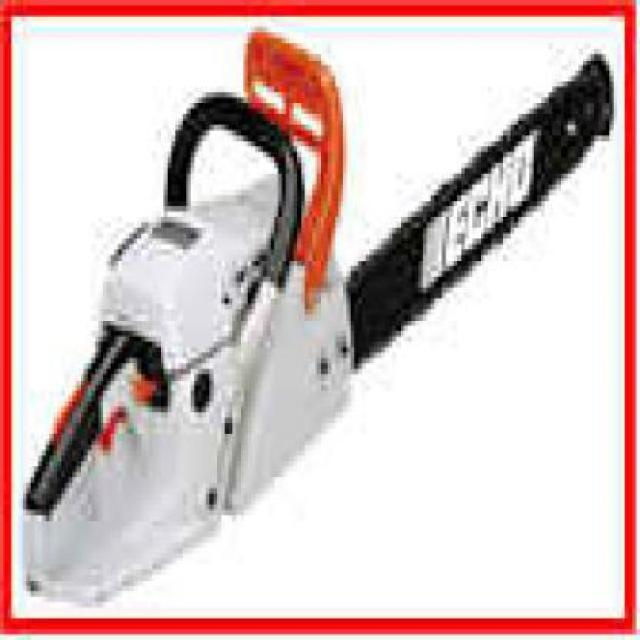Chainsaw: (8, 16, 624, 618)
